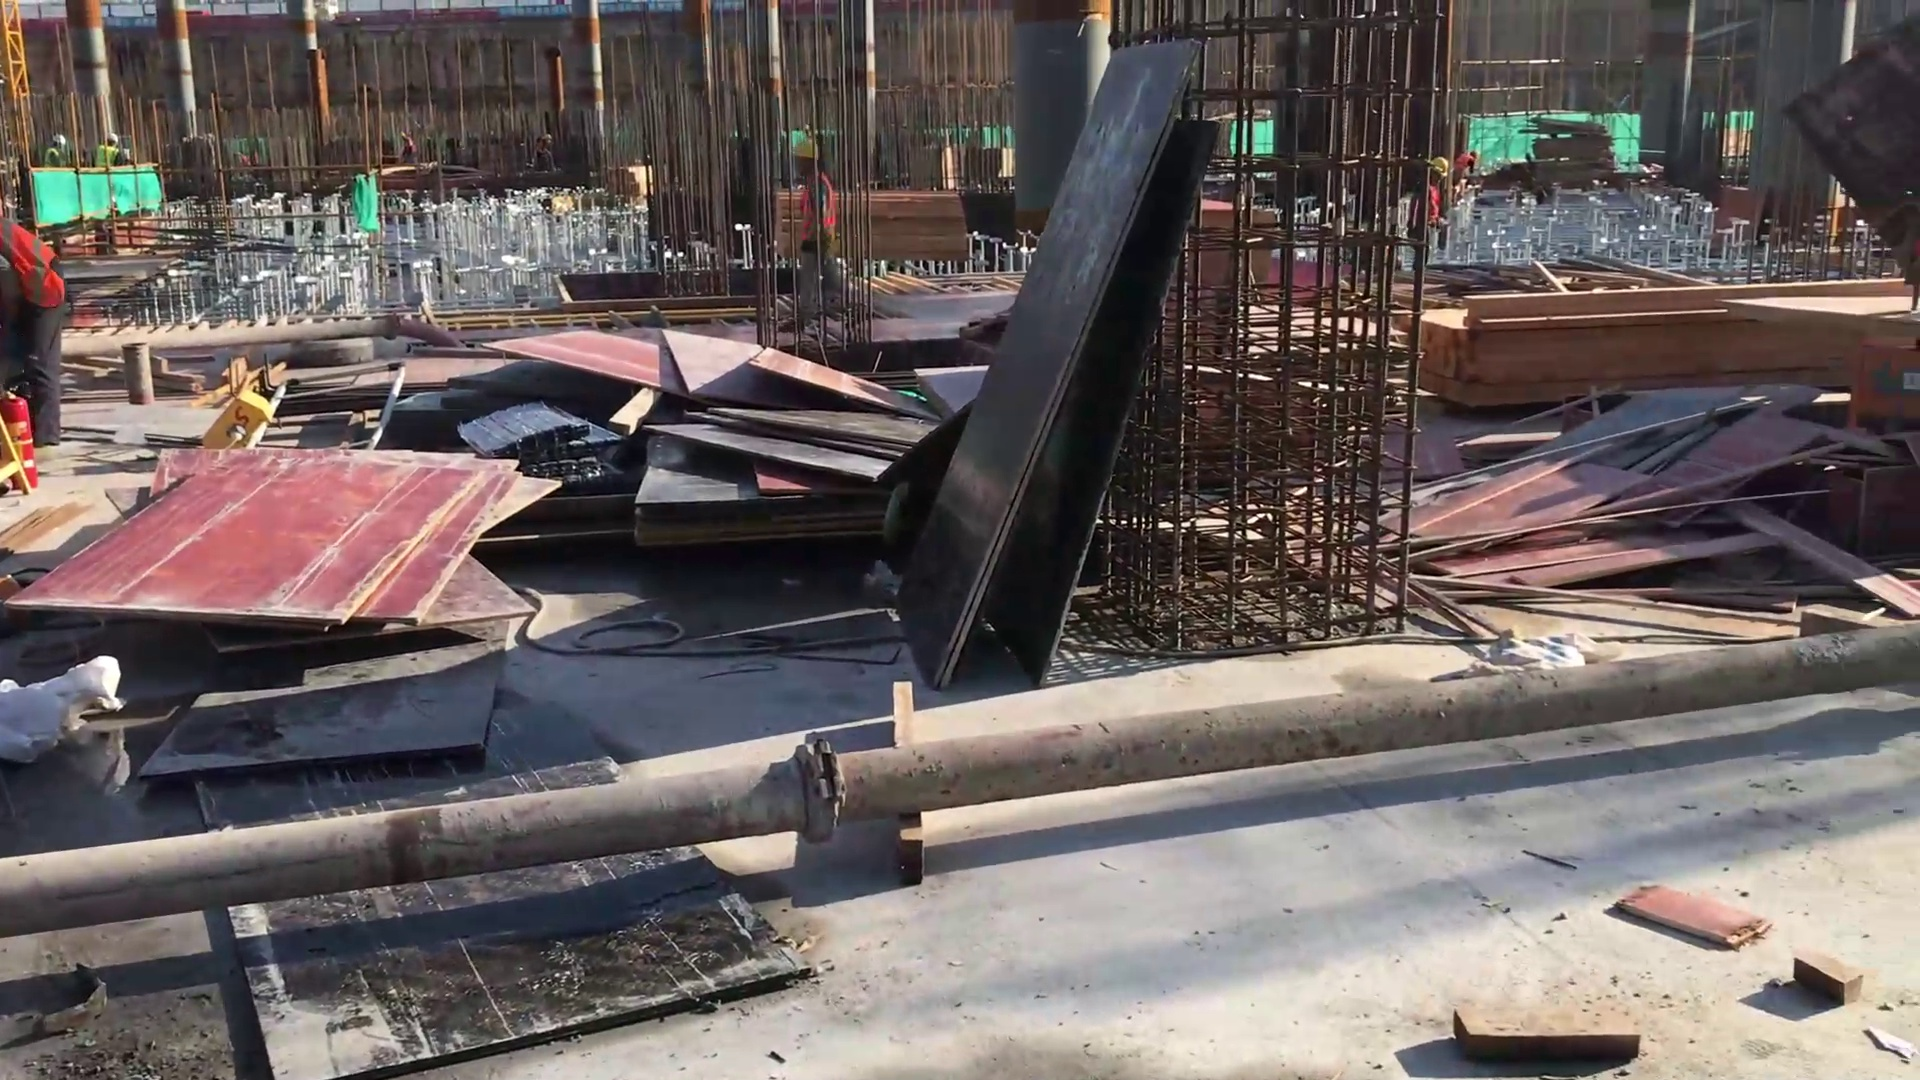person: (1, 223, 78, 443), (40, 131, 70, 164), (95, 134, 129, 164)
slogan: (106, 16, 160, 29), (498, 6, 573, 16), (601, 1, 646, 14), (651, 1, 681, 9)
vest: (4, 220, 71, 306), (96, 144, 119, 165), (44, 146, 58, 163)
wood: (1437, 301, 1723, 401), (875, 178, 972, 259)
